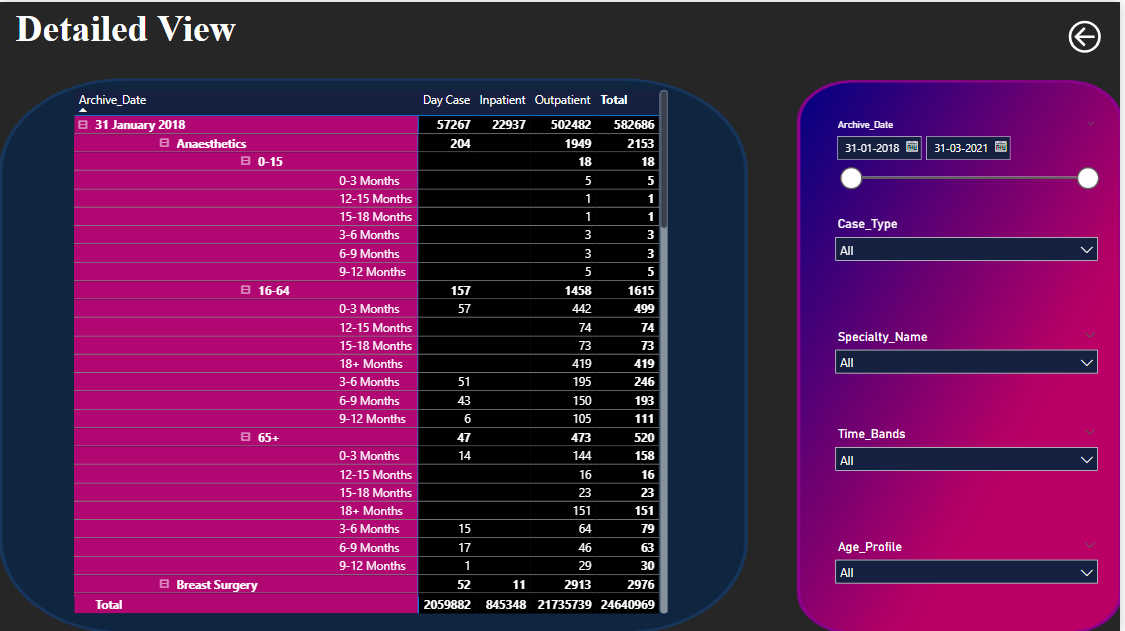

The page's visual inventory and layout, read from the dashboard file:
{"tool":"powerbi","page":{"name":"Detail","canvas":[1280,720],"ordinal":1},"visuals":[{"type":"textbox","box":[0,0,288,96],"z":0},{"type":"pivotTable","fields":{"Columns":["All_data.Case_Type"],"Values":["Sum(All_data.Total)"],"Rows":["All_data.Archive_Date","All_data.Specialty_Name","All_data.Age_Profile","All_data.Time_Bands"]},"box":[80,96,688,608],"z":1000},{"type":"slicer","fields":{"Values":["All_data.Archive_Date"]},"box":[944,128,320,112],"z":2000},{"type":"slicer","fields":{"Values":["All_data.Specialty_Name"]},"box":[944,368,320,128],"z":3000},{"type":"slicer","fields":{"Values":["All_data.Case_Type"]},"box":[944,240,320,112],"z":4000},{"type":"slicer","fields":{"Values":["All_data.Time_Bands"]},"box":[944,480,320,112],"z":5000},{"type":"slicer","fields":{"Values":["All_data.Age_Profile"]},"box":[944,608,320,112],"z":6000},{"type":"actionButton","box":[1216,16,64,48],"z":7000}]}

Visuals, with their boxes in screenshot pixels (x1, y1, x2, y2), scaled from the page's 1280x720 canvas onto the 1125x631 screenshot:
textbox: <bbox>0, 0, 253, 84</bbox>
pivotTable - All_data.Case_Type x Sum(All_data.Total): <bbox>70, 84, 675, 617</bbox>
slicer - All_data.Archive_Date: <bbox>830, 112, 1111, 210</bbox>
slicer - All_data.Specialty_Name: <bbox>830, 323, 1111, 435</bbox>
slicer - All_data.Case_Type: <bbox>830, 210, 1111, 308</bbox>
slicer - All_data.Time_Bands: <bbox>830, 421, 1111, 519</bbox>
slicer - All_data.Age_Profile: <bbox>830, 533, 1111, 630</bbox>
actionButton: <bbox>1069, 14, 1124, 56</bbox>
